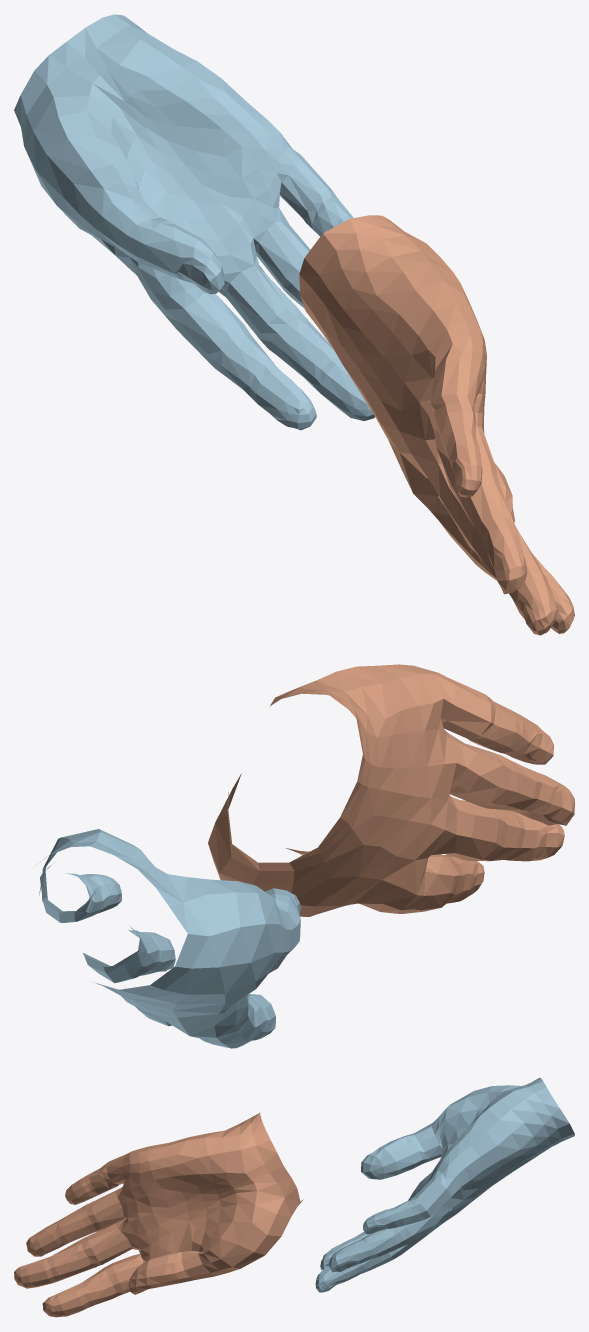
The model's file is frame_002.glb.
3 renders of one model, top to bottom at view 1: azimuth 30°, elevation 25°; view 2: azimuth 150°, elevation 25°; view 3: azimuth 270°, elevation 25°, orthographic. The views are drawn at different scales.
Parts seen in each view (by area): view 1: world; view 2: world; view 3: world.
Boxes of the visible parts, x1=… form: world: x1=14, y1=14, x2=574, y2=635; world: x1=39, y1=664, x2=574, y2=1048; world: x1=14, y1=1077, x2=574, y2=1317.
Bounding box in the file's own units: 0.0963 × 0.1321 × 0.3113.
